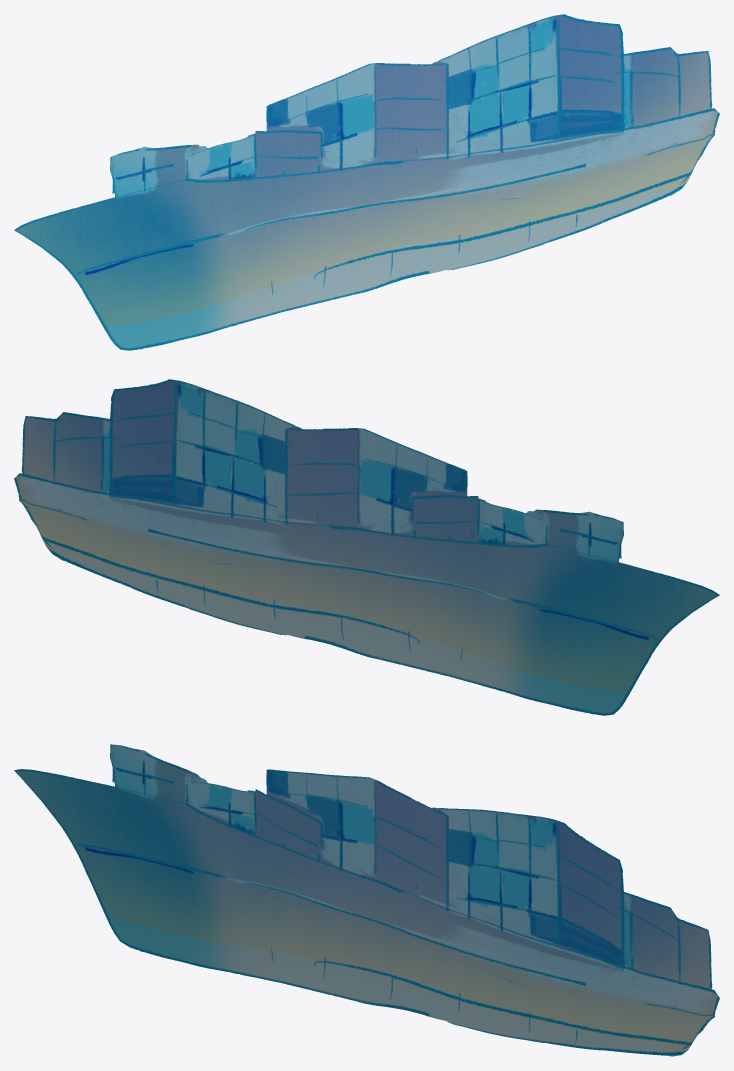
File: ship_1.fbx
3 renders of one model, top to bottom at view 1: azimuth 30°, elevation 25°; view 2: azimuth 150°, elevation 25°; view 3: azimuth 330°, elevation 25°, orthographic.
Parts seen in each view (by area): view 1: mask27; view 2: mask27; view 3: mask27.
Boxes of the visible parts, x1=… form: mask27: x1=14, y1=14, x2=719, y2=350; mask27: x1=14, y1=379, x2=719, y2=715; mask27: x1=14, y1=744, x2=719, y2=1056.
Size of the model in its own units: 17.29 by 5.47 by 7.63e-08.
1 material, 1 textured.
